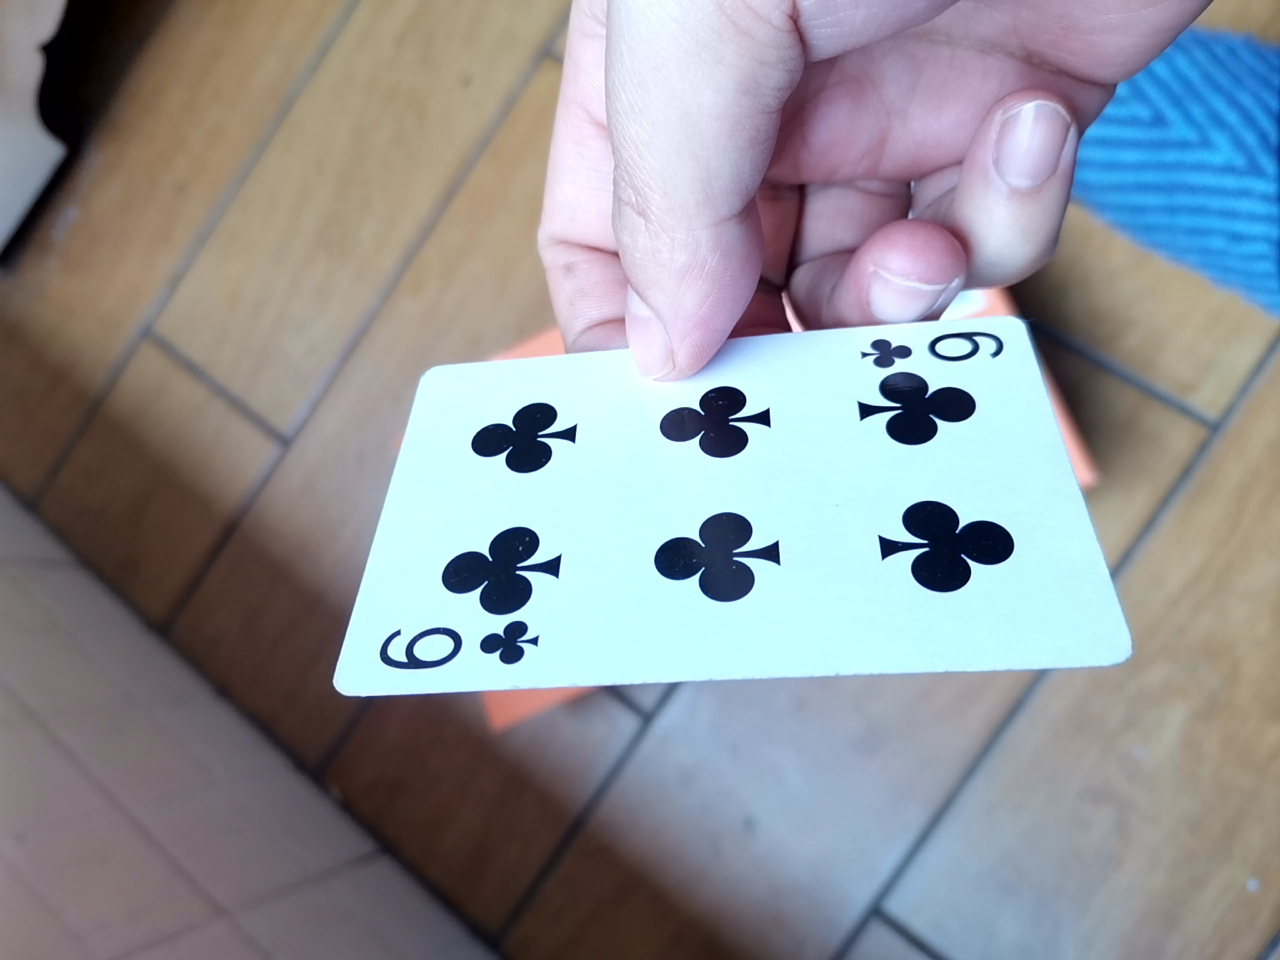mh 6: (331, 279, 1158, 700)
